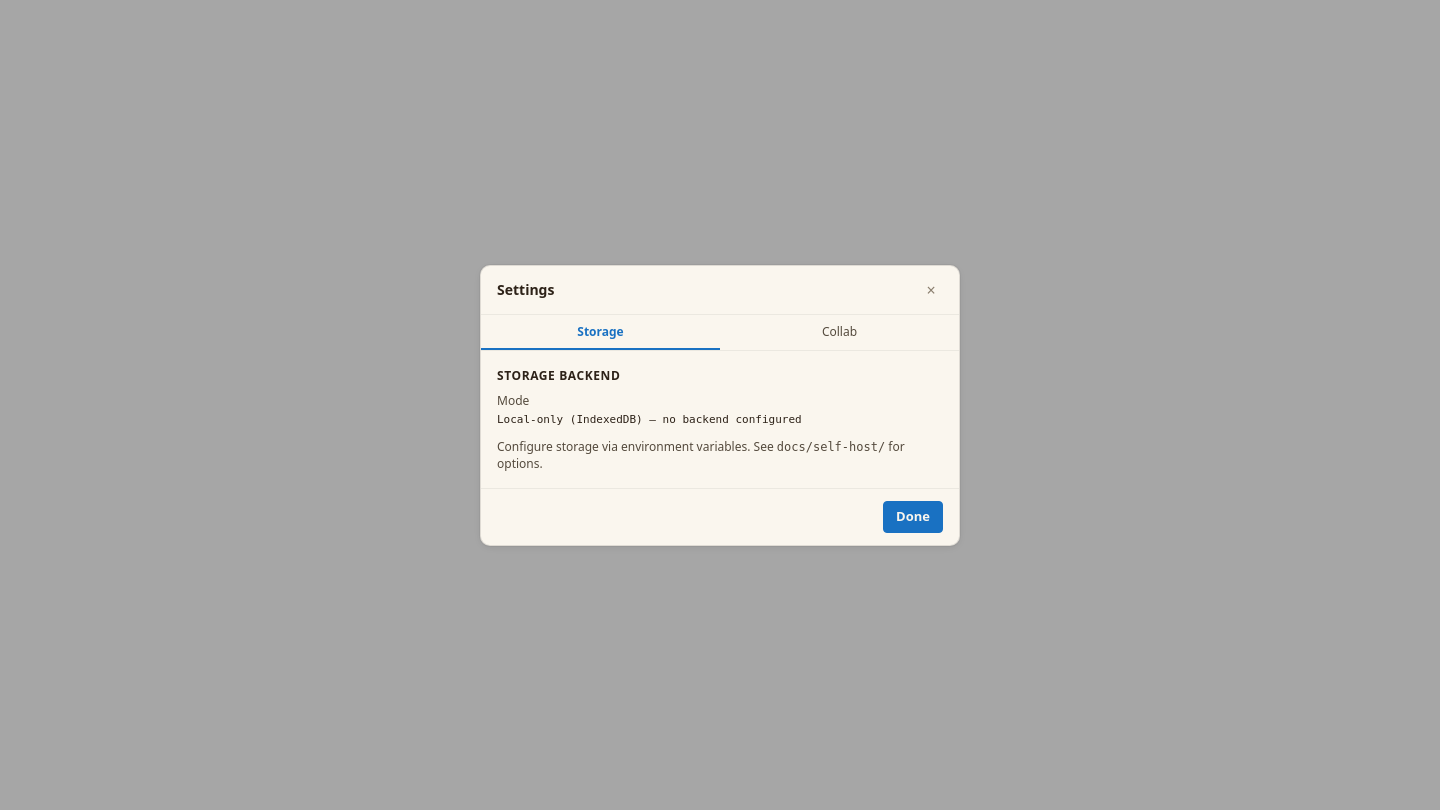
Test: SettingsDialog — CollaborationTab › shows Disabled when realtime isn't configured, not a nonexistent env var
Click the button with test id "settings-tab-collaboration" at (840, 332), box [720,314,959,350]
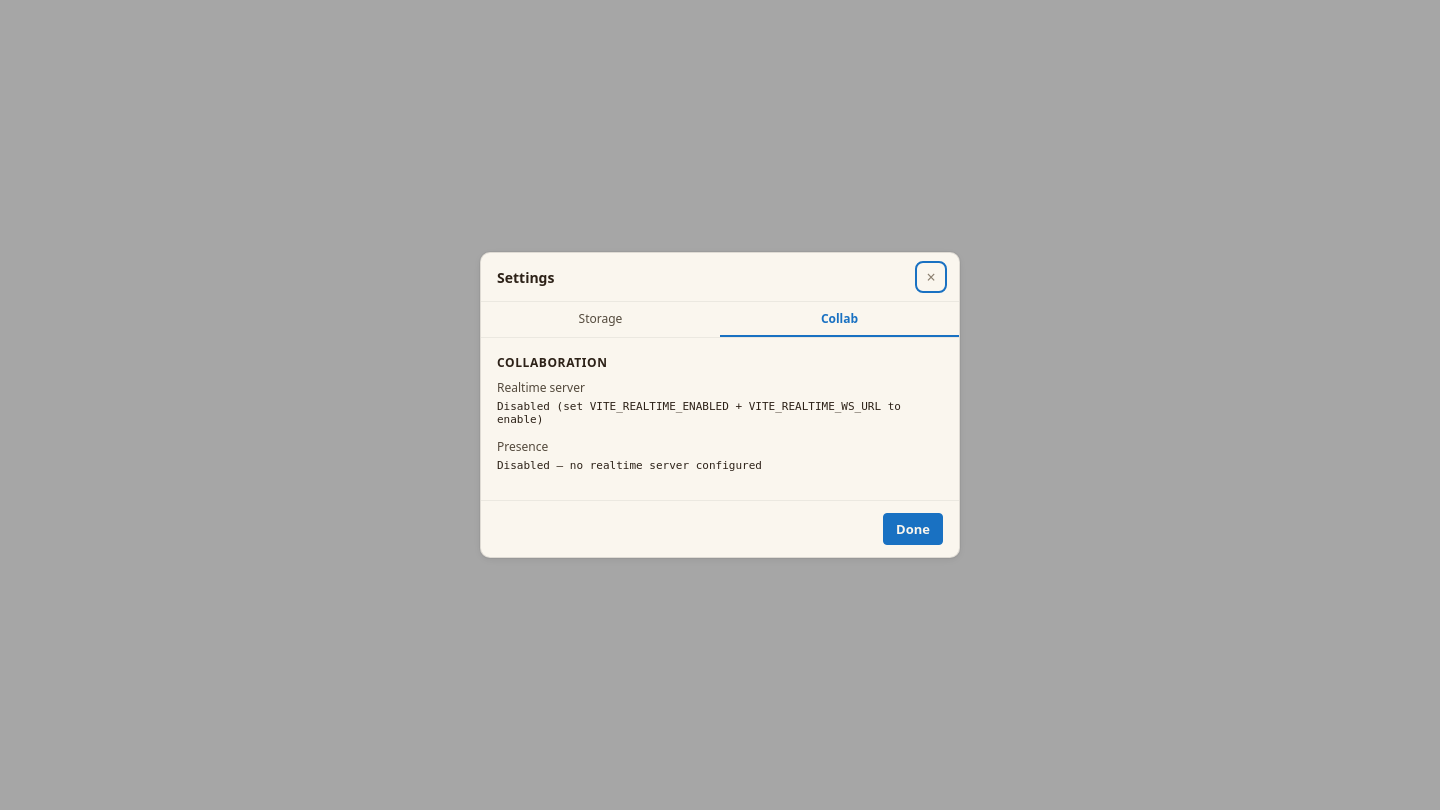
Expected: the text with test id "realtime-url" shows "Disabled", [497,400,901,426]
Expected: the text "Disabled — no realtime server configured" is shown, [497,459,762,472]
